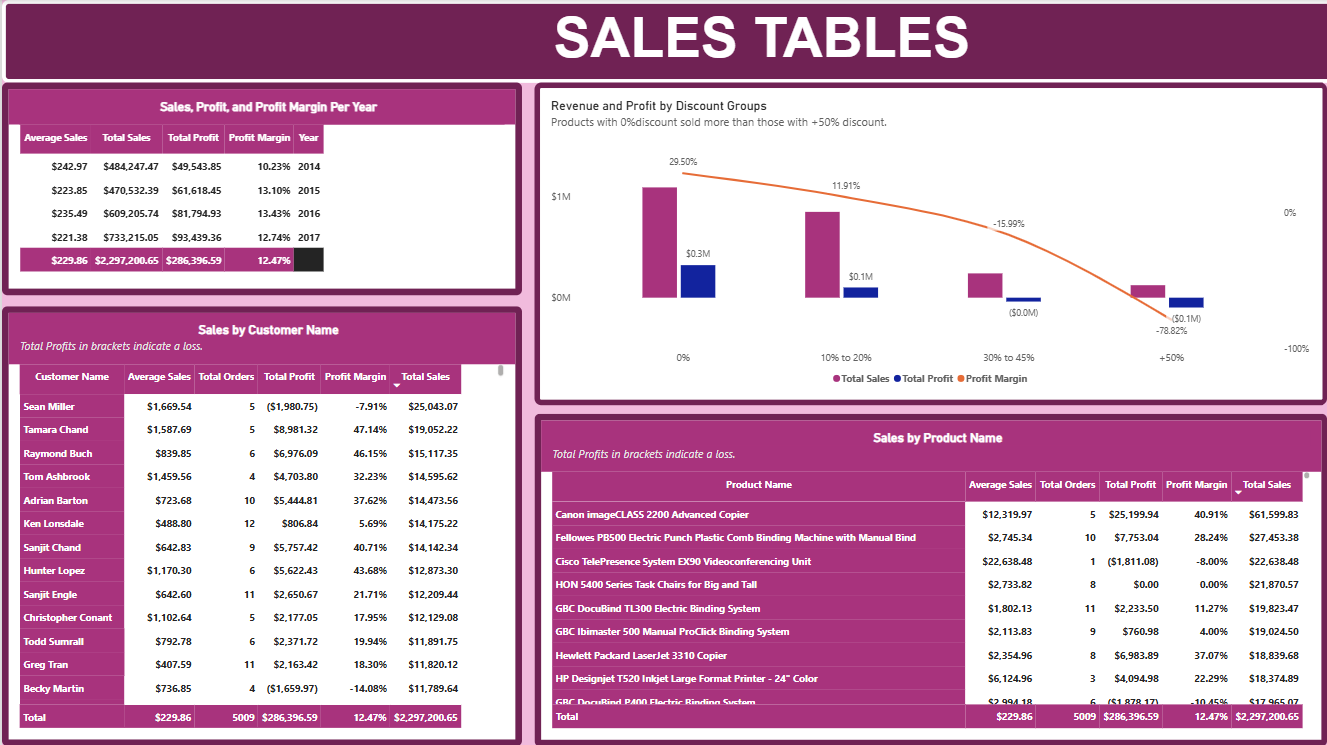

This screenshot's page, from the dashboard's own definition file:
{"tool":"powerbi","page":{"name":"Sales Tables","canvas":[1920,1080],"ordinal":2},"visuals":[{"type":"pivotTable","title":"Sales by Customer Name","fields":{"Rows":["Superstore.Customer Name"],"Values":["Calculations.Average Sales","Calculations.Total Orders","Calculations.Total Profit","Calculations.Profit Margin","Calculations.Total Sales"]},"box":[0,443.4,752.8,637],"z":0},{"type":"pivotTable","title":"Sales by Product Name","fields":{"Rows":["Superstore.Product Name"],"Values":["Calculations.Average Sales","Calculations.Total Orders","Calculations.Total Profit","Calculations.Profit Margin","Calculations.Total Sales"]},"box":[770.9,599,1149.1,481.4],"z":1000},{"type":"textbox","box":[0,0,2201.1,119.7],"z":2000},{"type":"tableEx","title":"Sales, Profit, and Profit Margin Per Year","fields":{"Values":["select","Calculations.Average Sales","Calculations.Total Sales","Calculations.Total Profit","Calculations.Profit Margin","Date.Date.Variation.Date Hierarchy.Year"]},"box":[0,119.4,752.8,307.6],"z":3000},{"type":"lineClusteredColumnComboChart","title":"Revenue and Profit by Discount Groups","fields":{"Category":["Superstore.Discount (groups)"],"Y":["Calculations.Total Sales","Calculations.Total Profit"],"Y2":["Calculations.Profit Margin"]},"box":[770.9,119.4,1149.1,466.9],"z":4000}]}

Visuals, with their boxes in screenshot pixels (x1, y1, x2, y2), scaled from the page's 1920x1080 canvas onto the 1327x745 screenshot:
"Sales by Customer Name" pivotTable: {"left": 0, "top": 306, "right": 520, "bottom": 744}
"Sales by Product Name" pivotTable: {"left": 533, "top": 413, "right": 1326, "bottom": 744}
textbox: {"left": 0, "top": 0, "right": 1326, "bottom": 83}
"Sales, Profit, and Profit Margin Per Year" tableEx: {"left": 0, "top": 82, "right": 520, "bottom": 295}
"Revenue and Profit by Discount Groups" lineClusteredColumnComboChart: {"left": 533, "top": 82, "right": 1326, "bottom": 404}
